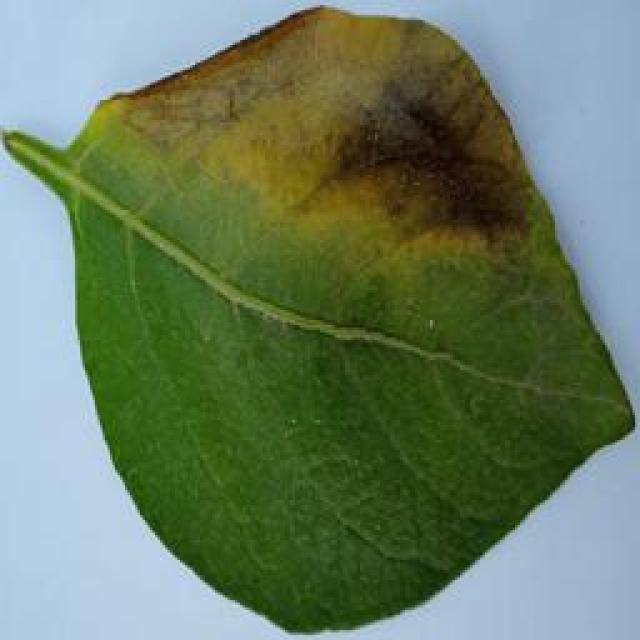Potato_Late_Blight: (4, 15, 622, 636)
